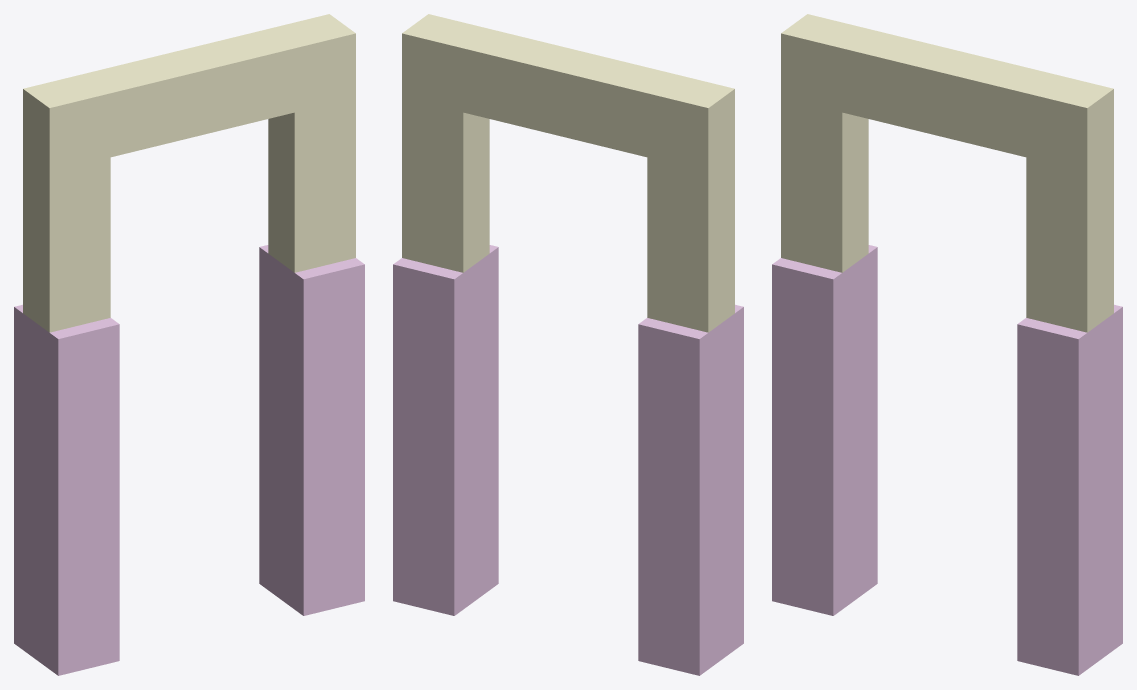
Rendered from Wall_B_Door.glb.
3 renders of one model, left to right at view 1: azimuth 30°, elevation 25°; view 2: azimuth 150°, elevation 25°; view 3: azimuth 330°, elevation 25°, orthographic.
Parts seen in each view (by area): view 1: Wall B Door; view 2: Wall B Door; view 3: Wall B Door.
Boxes of the visible parts, x1,y1,x2,y2 form: Wall B Door: (14,14,364,675); Wall B Door: (393,14,743,675); Wall B Door: (772,14,1122,675).
Size of the model in its own units: 2 by 3.5 by 0.5.
